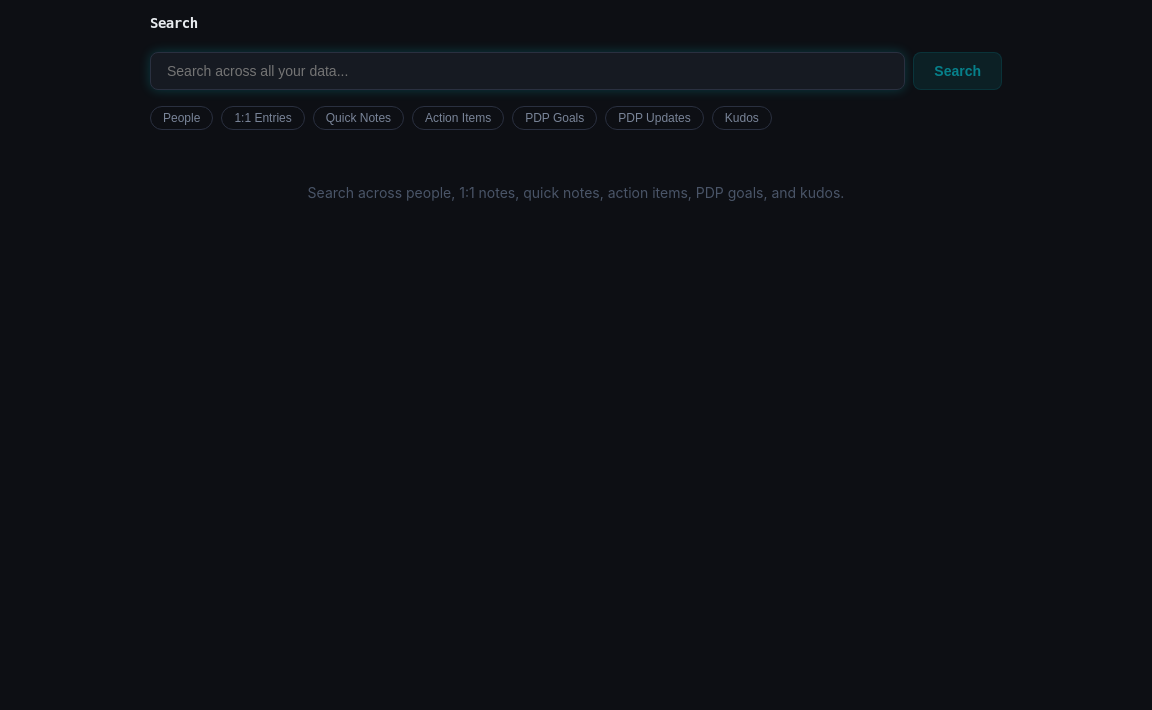
Scenario: SearchPage › should show pagination when multiple pages
The width and height of the screenshot is (1152, 710).
Type "test" into the field with test id "search-input". click: (528, 71)
box: top-left (150, 52), bottom-right (905, 90)
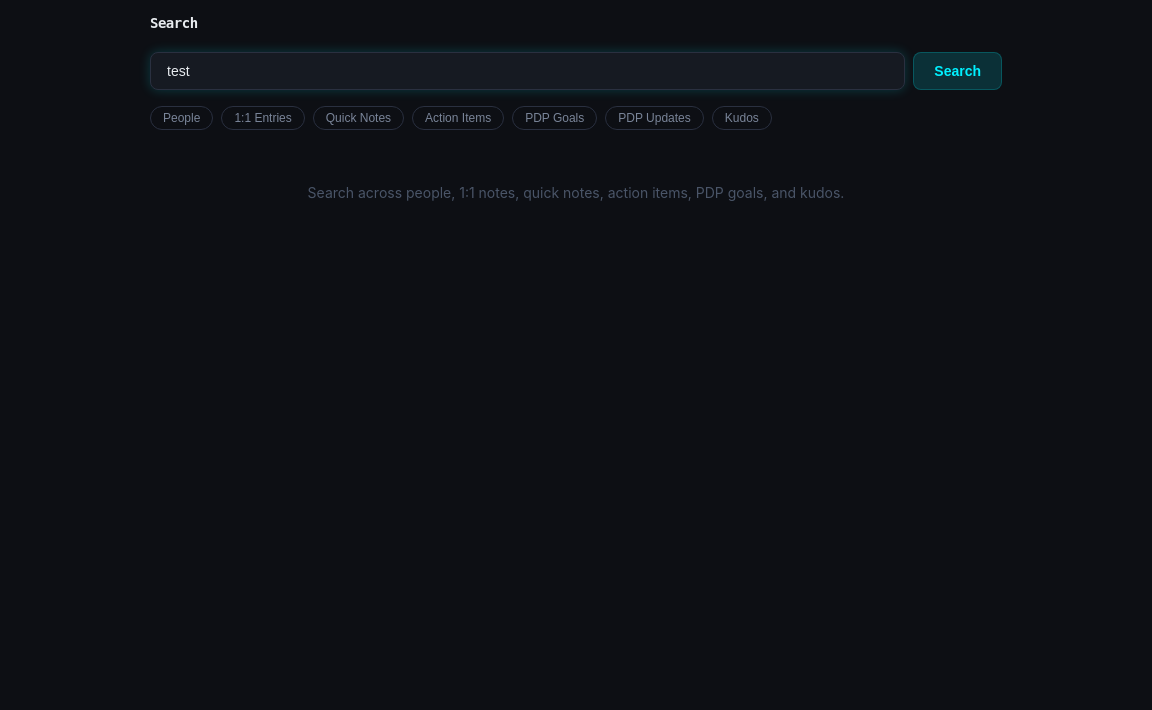
Submit the form with test id "search-input", box top-left (150, 52), bottom-right (1002, 90)
(page scrolled)
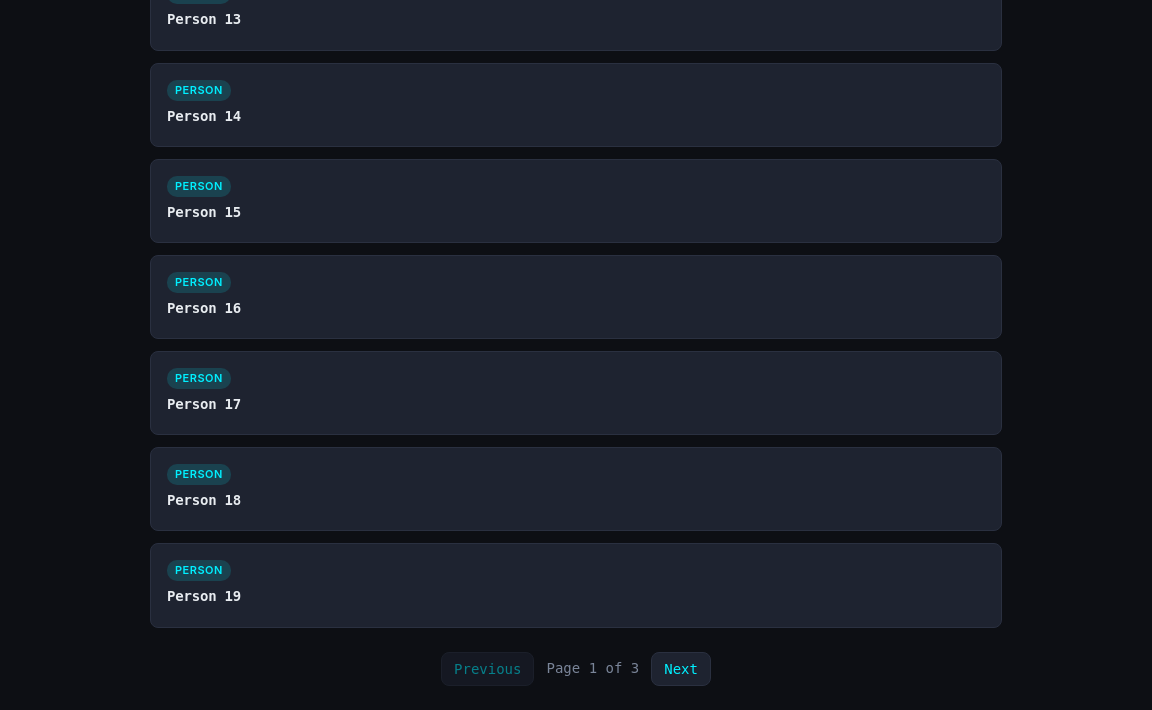
Now the navigation bar with test id "pagination" is shown, box top-left (441, 652), bottom-right (711, 686)
